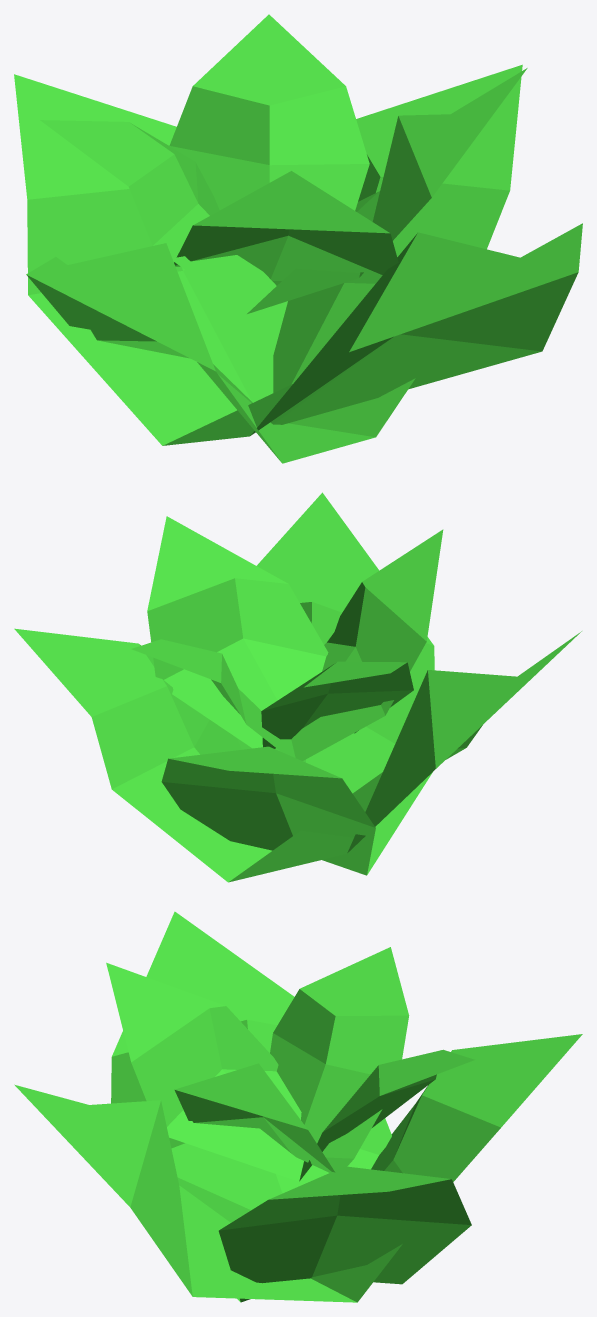
Rendered from vegetable-1.fbx.
3 views of the same model, one above another, from view 1: azimuth 30°, elevation 25°; view 2: azimuth 150°, elevation 25°; view 3: azimuth 270°, elevation 25° (orthographic). The views are drawn at different scales.
Visible parts, largest first — view 1: Cylinder.001; view 2: Cylinder.001; view 3: Cylinder.001.
Boxes of the visible parts, x1,y1,x2,y2 form: Cylinder.001: (14, 14, 582, 463); Cylinder.001: (14, 492, 581, 882); Cylinder.001: (14, 911, 582, 1302).
Size of the model in its own units: 59.56 by 32.73 by 59.56.
